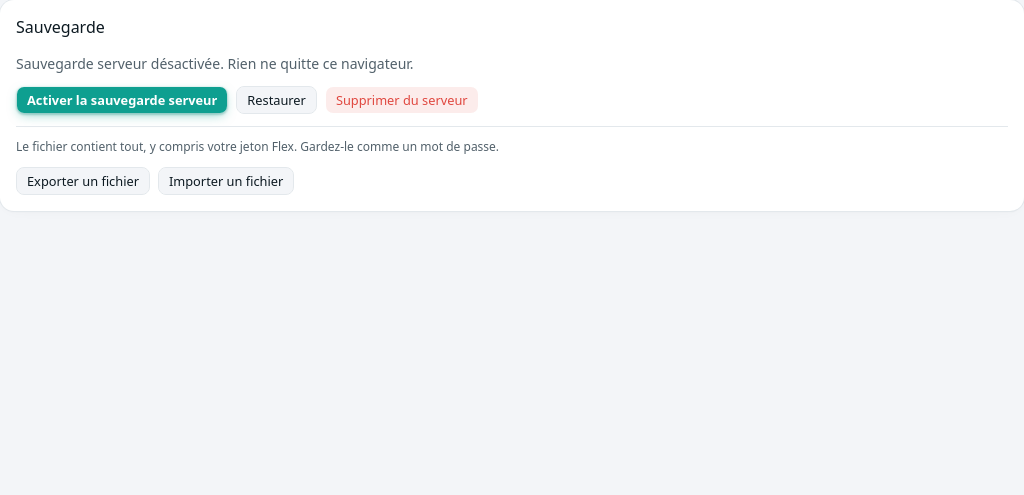
Test case: BackupCard › refuse une confirmation qui diffère
Click the button "Activer la sauvegarde serveur" at (122, 100), box [16,86,228,114]
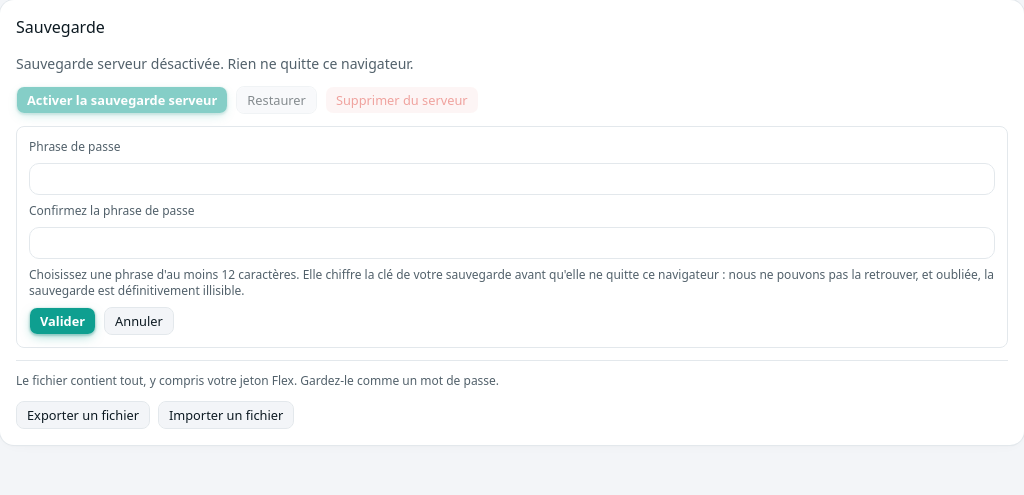
Type "une phrase de passe" into the password field labelled "Phrase de passe" at (512, 179), box [29,163,995,195]
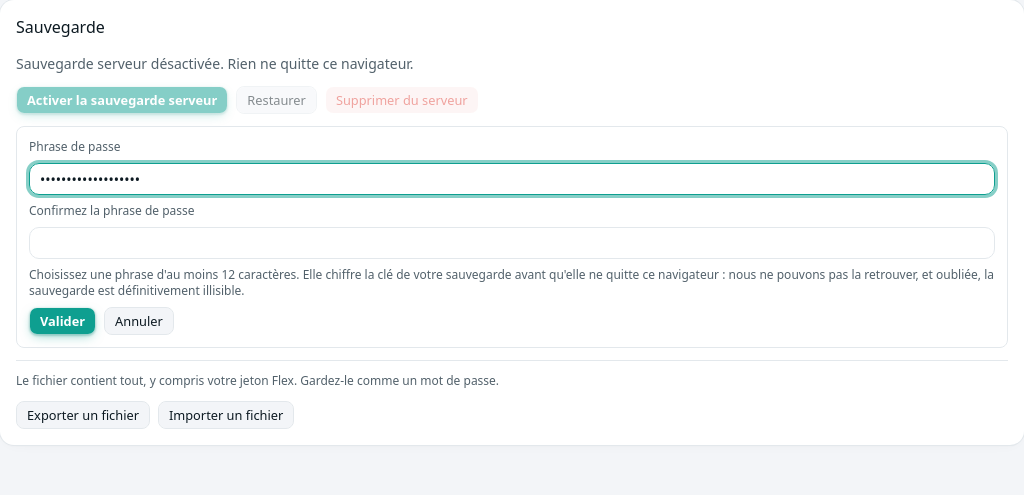
Type "une autre phrase" into the password field labelled "Confirmez la phrase de passe" at (512, 243), box [29,227,995,259]
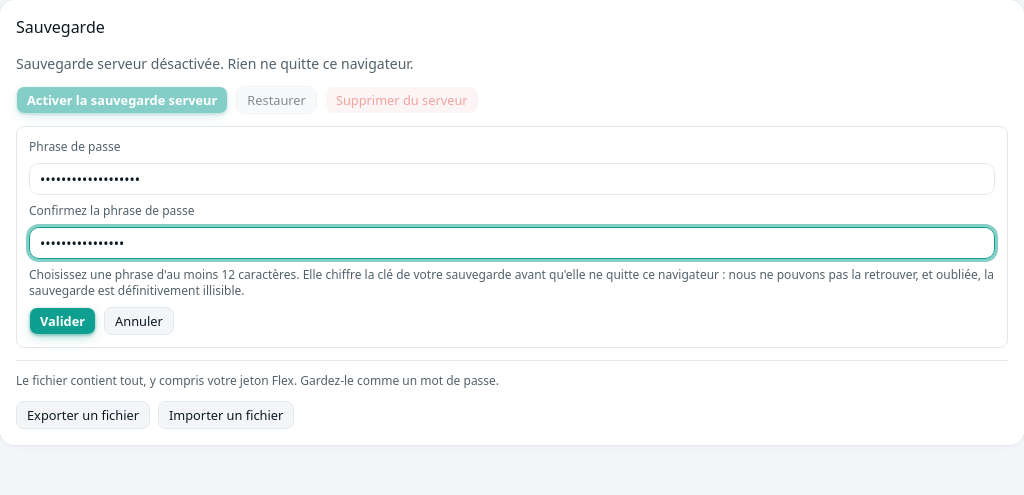
Click the button "Valider" at (63, 321), box [29,307,96,335]
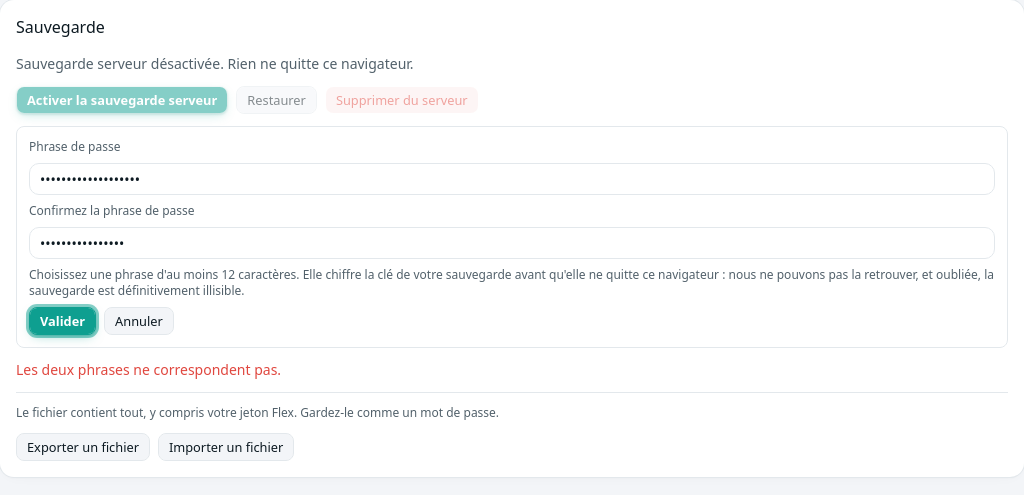
Now the message reads "Les deux phrases ne correspondent pas.", box [16,360,281,379]
